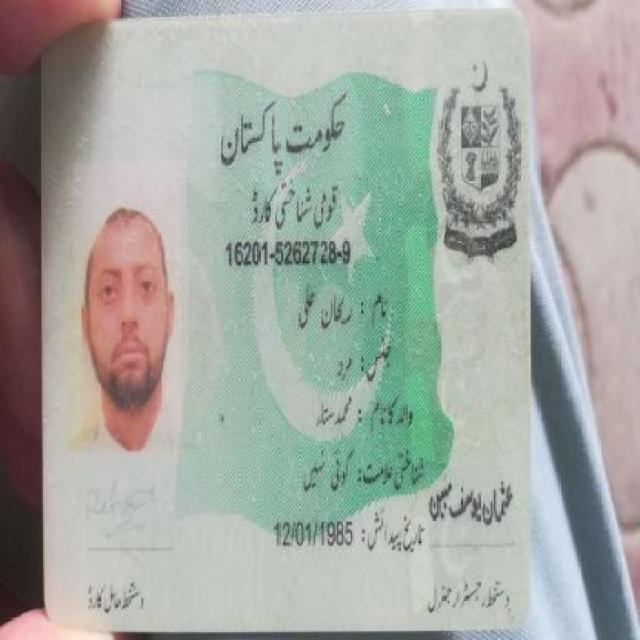Front: (34, 14, 534, 634)
